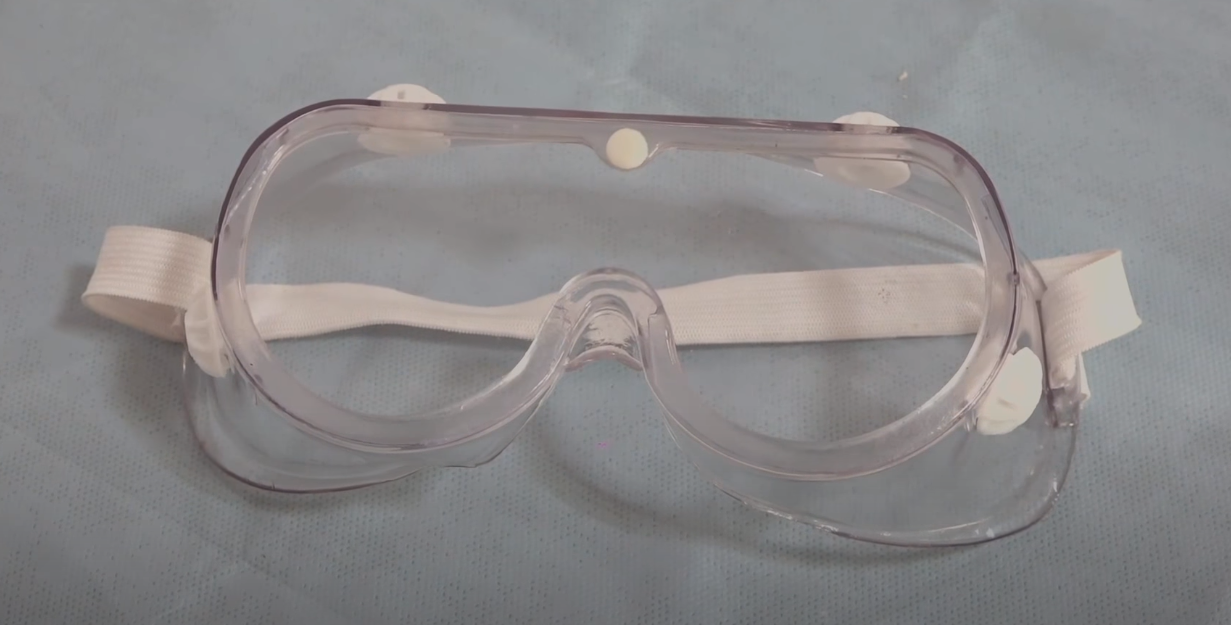Goggles: (179, 84, 1094, 564)
